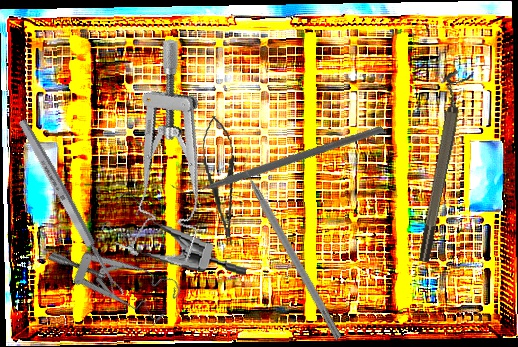Chopper: (169, 46, 385, 268), (234, 149, 353, 341)
Fixation Ring: (407, 68, 473, 264)
Needle Holder: (197, 114, 245, 247)
Speculum: (94, 36, 253, 273), (47, 206, 187, 344), (98, 189, 254, 277)
Surgical Spoon: (16, 117, 125, 300)
